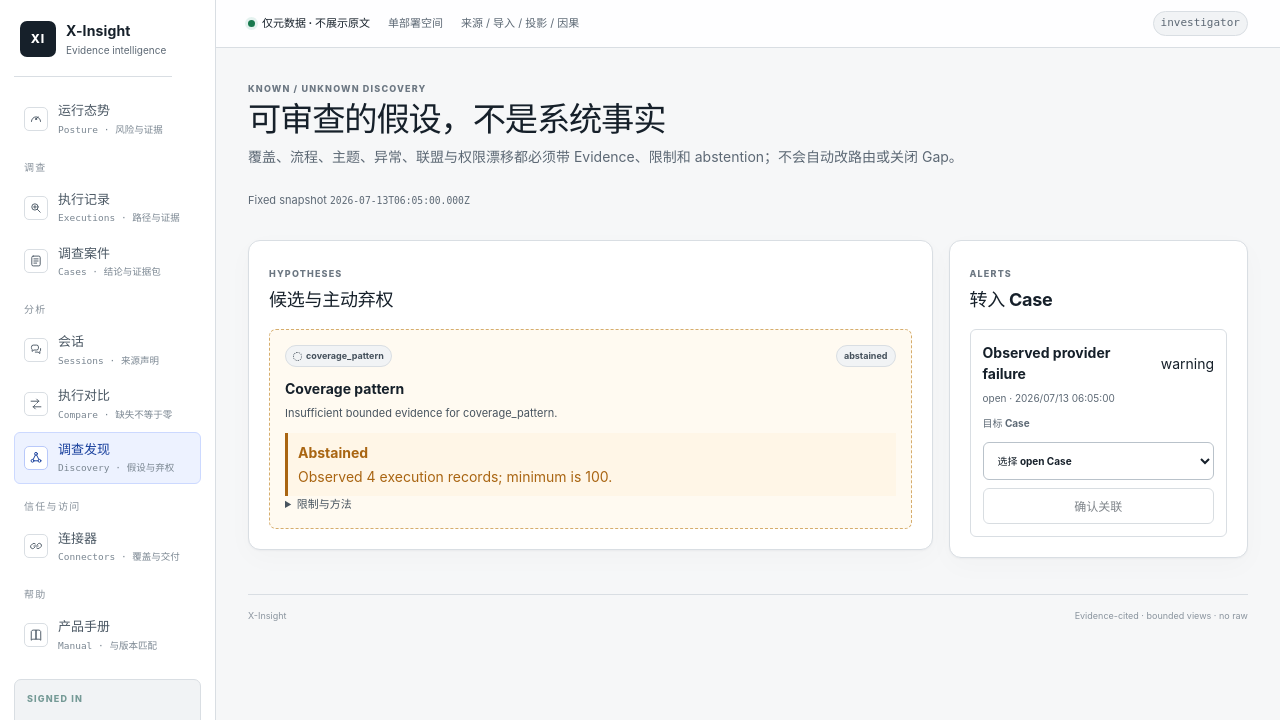
Test: PRD2 investigation UI › requires an explicit confirmation before linking an Alert to a Case
Select "Fallback investigation" in the dropdown labelled "目标 Case" at (1098, 461), box [982,442,1214,480]
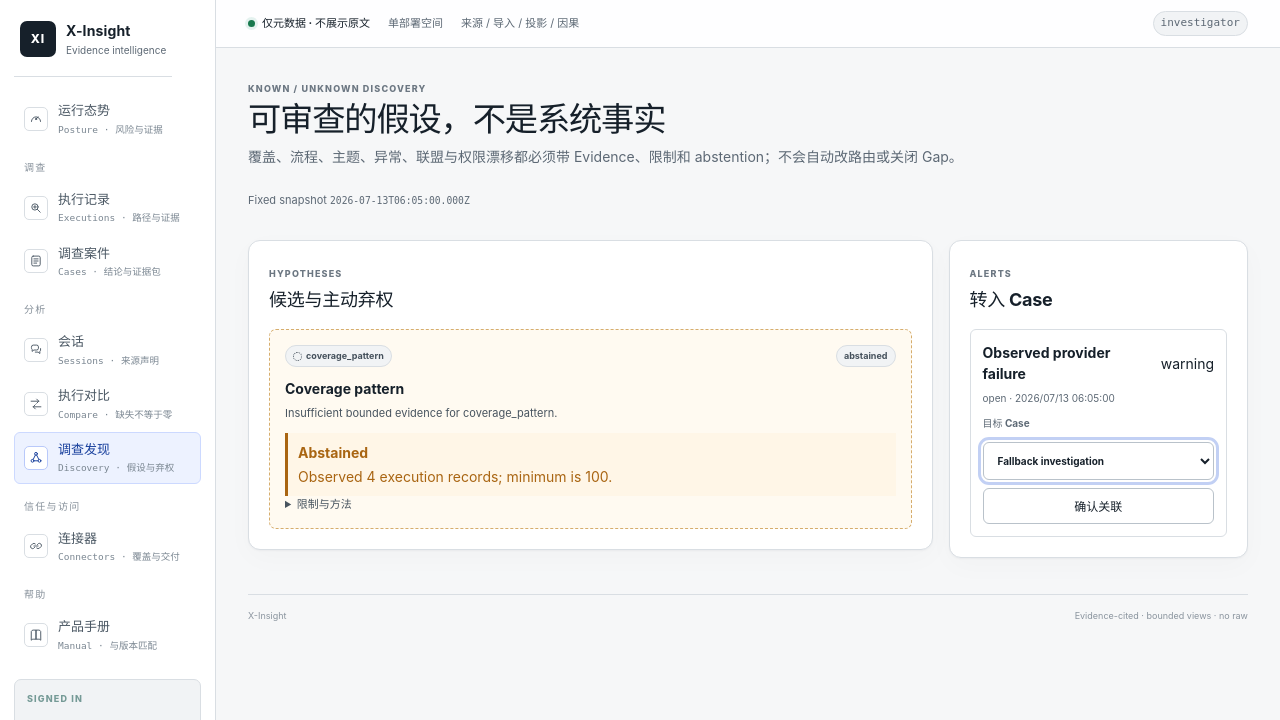
Click the button "确认关联" at (1098, 506), box [982,488,1214,524]
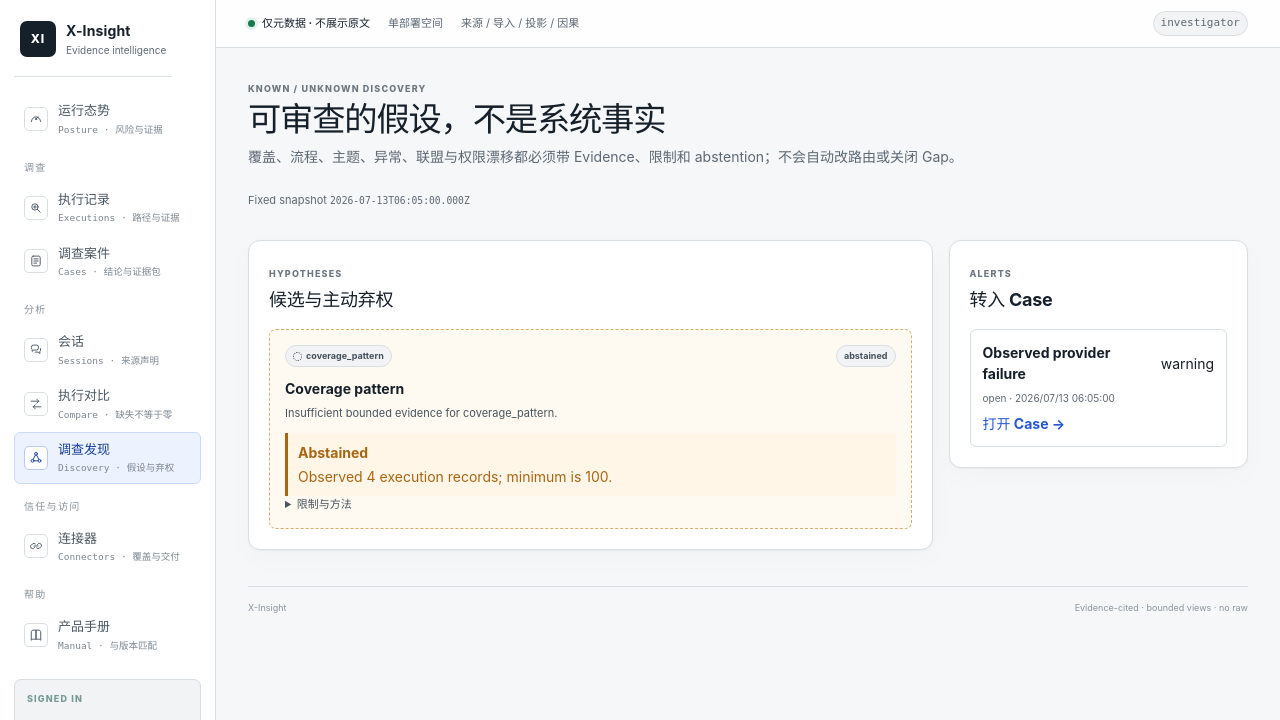
Now the button "打开 Case →" is shown, box [982,413,1065,434]
